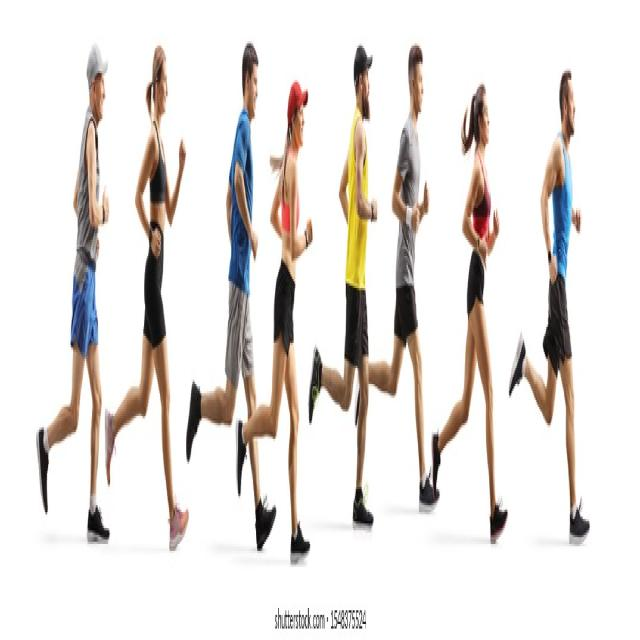running: (507, 61, 595, 567), (34, 41, 114, 558), (185, 38, 262, 554), (113, 40, 186, 552), (432, 76, 507, 541), (314, 40, 382, 527), (260, 78, 314, 562), (381, 33, 432, 520)
